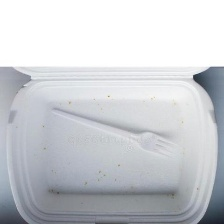foam_box: (0, 66, 224, 224)
